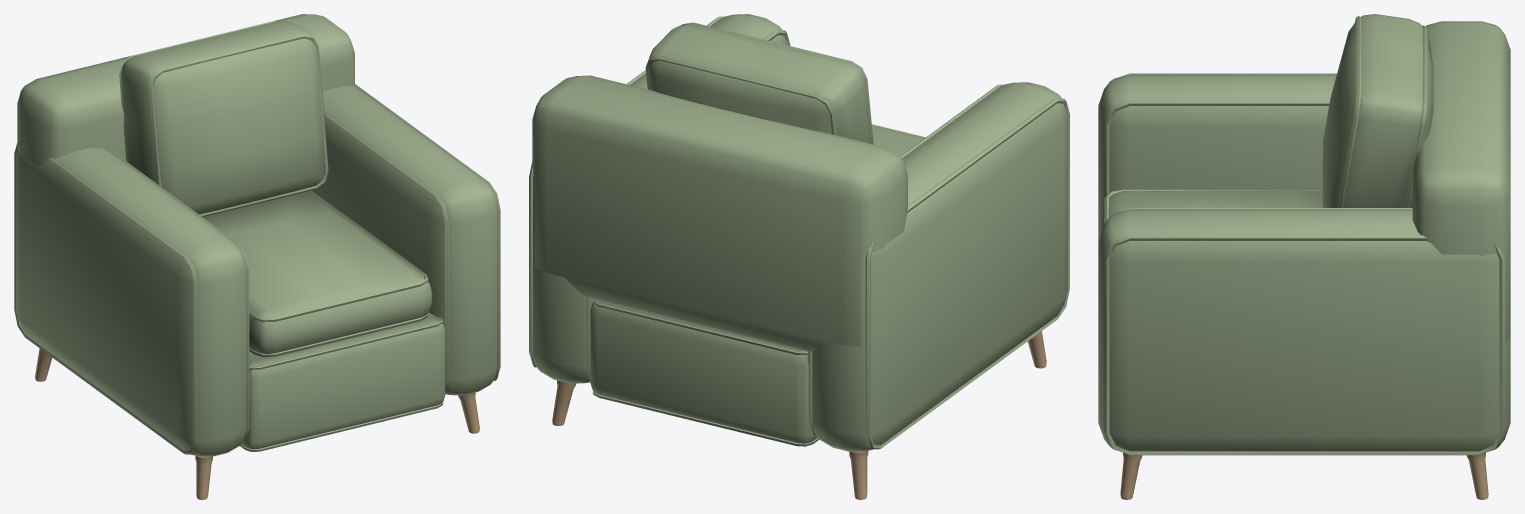
The model's file is armchairLounge.glb.
3 views of the same model, side by side, from view 1: azimuth 30°, elevation 25°; view 2: azimuth 150°, elevation 25°; view 3: azimuth 270°, elevation 25° (orthographic). The views are drawn at different scales.
Parts seen in each view (by area): view 1: sofa, seat; view 2: sofa, seat; view 3: sofa, seat.
Boxes of the visible parts, <box> form: sofa: <box>14,14,500,499</box>; seat: <box>203,190,432,357</box>; sofa: <box>529,14,1069,499</box>; seat: <box>871,124,925,155</box>; sofa: <box>1098,14,1510,499</box>; seat: <box>1100,189,1322,232</box>.
Bounding box in the file's own units: 0.82 × 0.8331 × 0.84.
